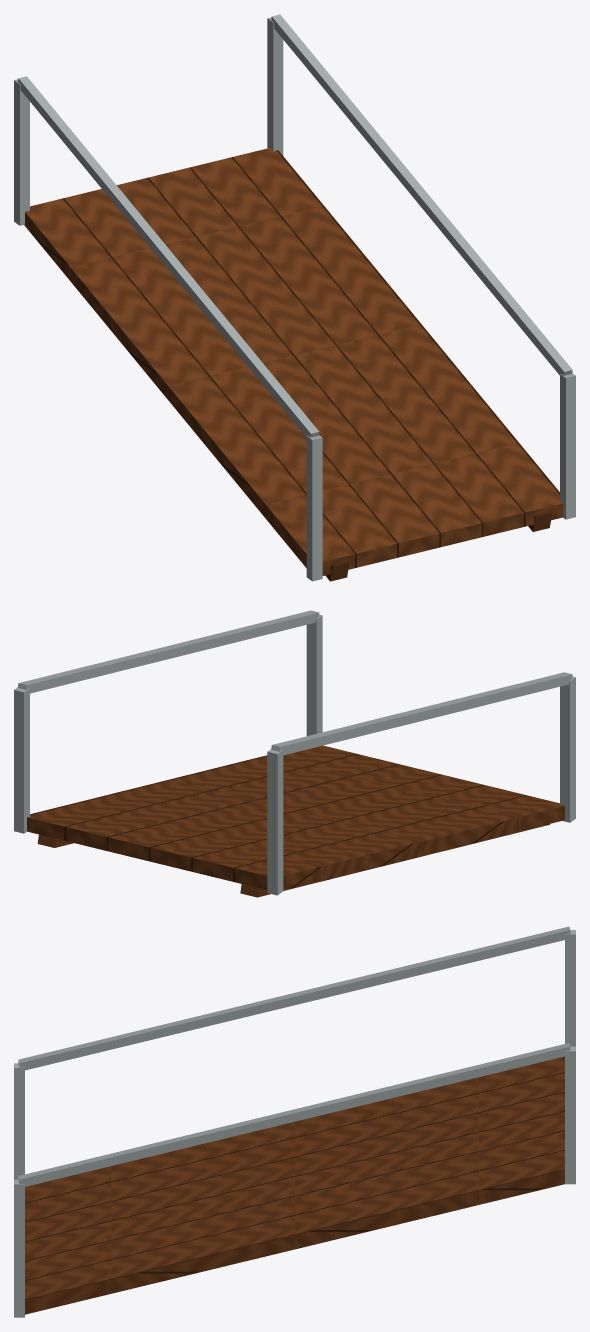
File: fortified-compound-expansion-perimeter-ramp-5965fdc1__27116.glb
3 renders of one model, top to bottom at view 1: azimuth 30°, elevation 25°; view 2: azimuth 150°, elevation 25°; view 3: azimuth 270°, elevation 25°, orthographic. The views are drawn at different scales.
Parts seen in each view (by area): view 1: perimeter-ramp; view 2: perimeter-ramp; view 3: perimeter-ramp.
Part boxes in pixels (<box>): perimeter-ramp: <box>14,14,575,581</box>; perimeter-ramp: <box>14,610,575,897</box>; perimeter-ramp: <box>14,926,575,1317</box>.
Size of the model in its own units: 1.56 by 1.67 by 3.06.
Materials: 2 (1 with a texture image).
